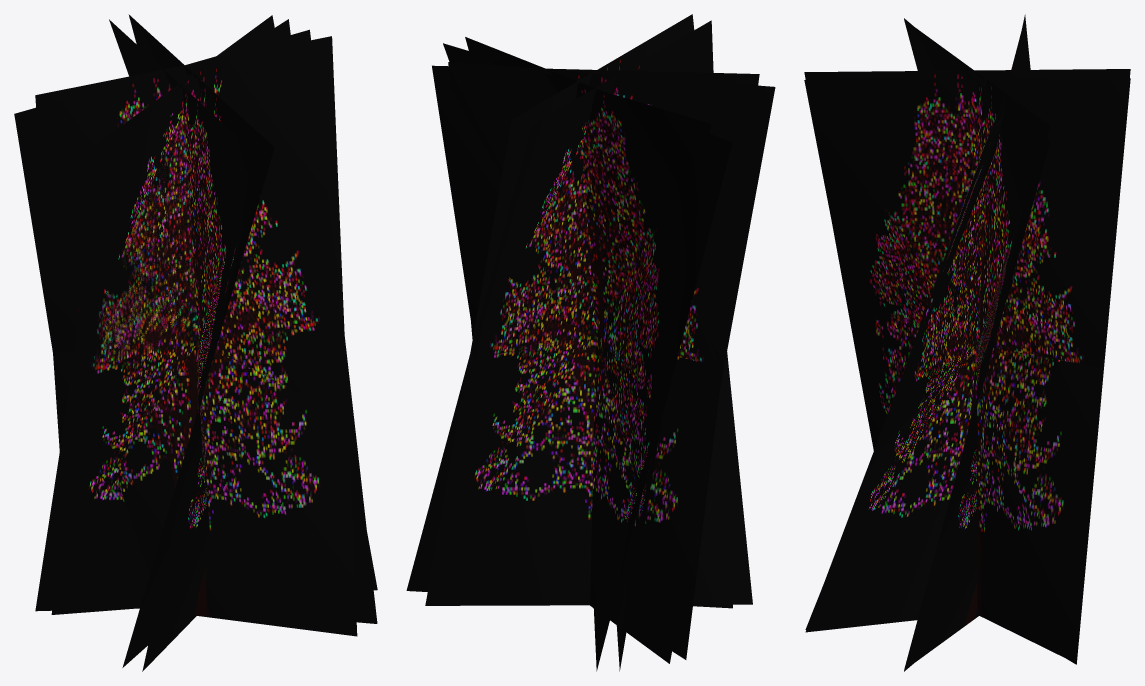
The model's file is tree.fbx.
3 views of the same model, side by side, from view 1: azimuth 30°, elevation 25°; view 2: azimuth 150°, elevation 25°; view 3: azimuth 270°, elevation 25° (orthographic).
Visible parts, largest first — view 1: tree; view 2: tree; view 3: tree.
Part boxes in pixels (box(x1,y1,x2,y2)): tree: box(14, 14, 377, 671); tree: box(406, 14, 775, 671); tree: box(804, 14, 1130, 671).
Size of the model in its own units: 1.2 by 2.11 by 1.12.
